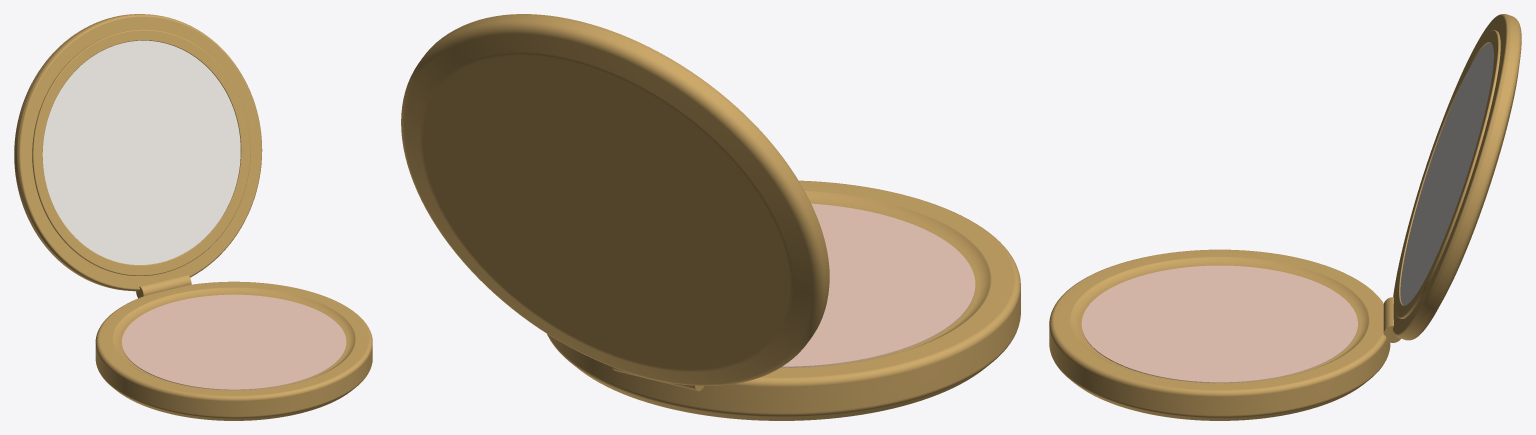
The model's file is compact.glb.
3 views of the same model, side by side, from view 1: azimuth 30°, elevation 25°; view 2: azimuth 150°, elevation 25°; view 3: azimuth 270°, elevation 25° (orthographic). The views are drawn at different scales.
Visible parts, largest first — view 1: mirror, powder, base, lid, mirror-rim, hinge; view 2: lid, base, powder; view 3: powder, base, mirror, lid, mirror-rim, hinge.
Part boxes in pixels (x1,y1,x2,y2): mirror: (42,40,240,264); powder: (122,294,346,390); base: (95,281,372,420); lid: (14,14,262,291); mirror-rim: (32,29,250,275); hinge: (136,274,191,298); lid: (401,14,829,385); base: (547,180,1020,420); powder: (781,203,975,367); powder: (1081,265,1357,382); base: (1049,249,1390,420); mirror: (1400,43,1493,305); lid: (1392,14,1521,340); mirror-rim: (1395,30,1500,318); hinge: (1383,297,1400,342).
Size of the model in its own units: 0.8 by 0.8332 by 1.11.
